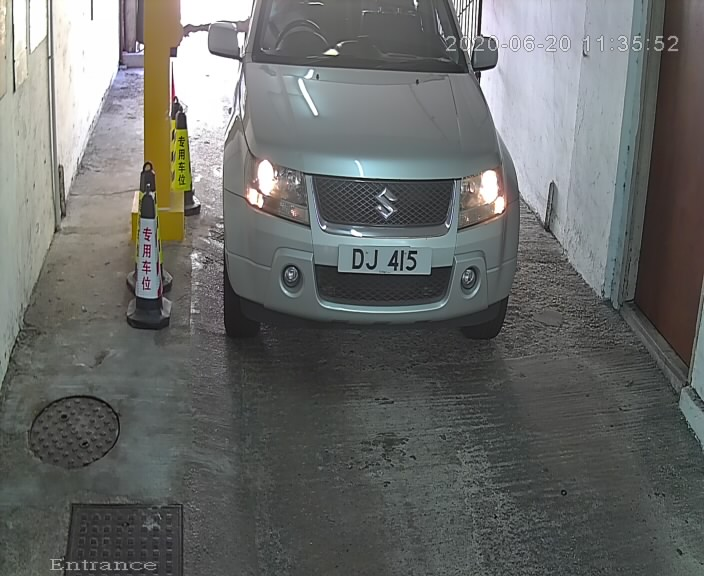privatecar: (202, 3, 524, 371)
